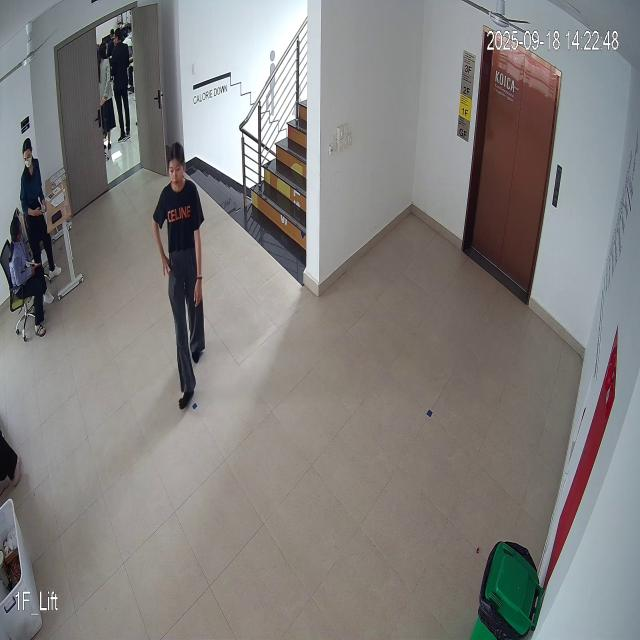face: (163, 140, 186, 190)
